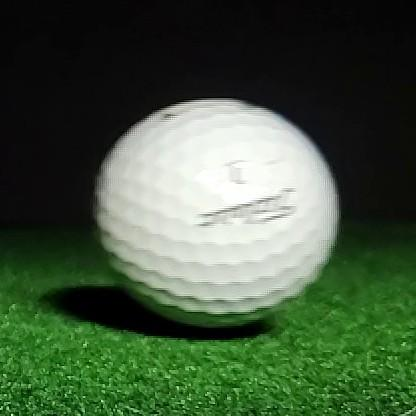golfball: (97, 101, 337, 328)
